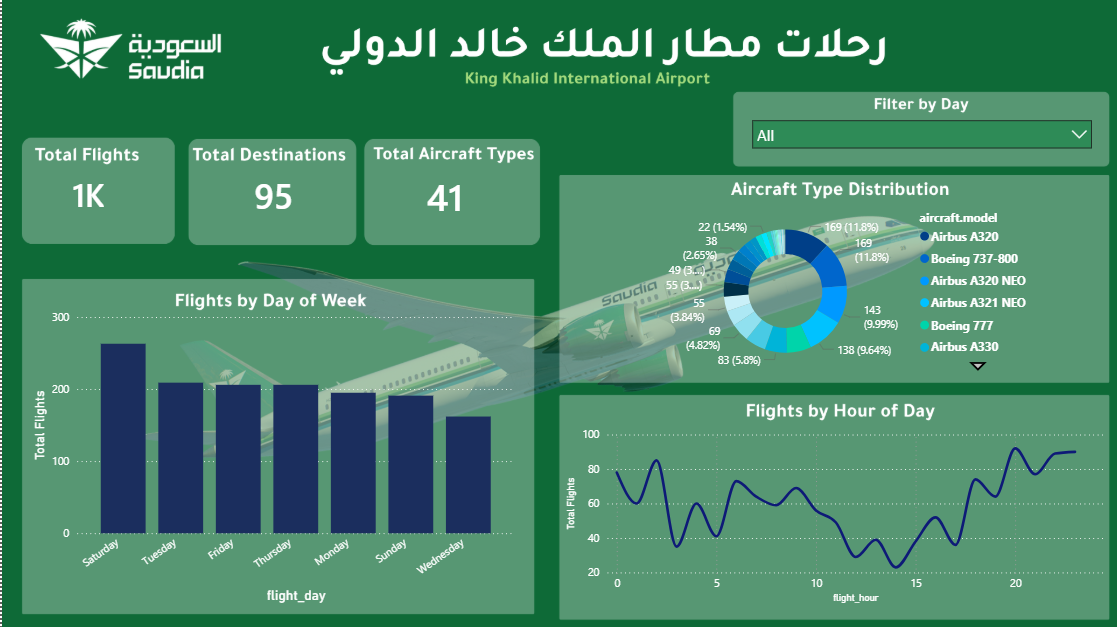

The page's visual inventory and layout, read from the dashboard file:
{"tool":"powerbi","page":{"name":"Page 1","canvas":[1280,720],"ordinal":0},"visuals":[{"type":"image","box":[0,0,1280,720],"z":0},{"type":"cardVisual","fields":{"Data":["flights_cleaned.Total Flights"]},"box":[30,164.3,137.1,112.9],"z":1000},{"type":"cardVisual","fields":{"Data":["flights_cleaned.Total Destinations"]},"box":[221.4,165.7,178.6,112.9],"z":2000},{"type":"cardVisual","fields":{"Data":["flights_cleaned.Total Aircraft Types"]},"box":[421.4,178.6,170,87.1],"z":3000},{"type":"lineStackedColumnComboChart","fields":{"Category":["flights_cleaned.flight_day"],"Y":["flights_cleaned.Total Flights"]},"box":[30,348.6,561.4,345.7],"z":4000},{"type":"donutChart","fields":{"Category":["flights_cleaned.aircraft.model"],"Y":["flights_cleaned.Total Flights"]},"box":[737.1,234.3,448.6,197.1],"z":5000},{"type":"lineChart","fields":{"Category":["flights_cleaned.flight_hour"],"Y":["flights_cleaned.Total Flights"]},"box":[640,482.9,624.3,211.4],"z":6000},{"type":"slicer","fields":{"Values":["flights_cleaned.flight_day"]},"box":[847.1,127.1,408.6,72.9],"z":7000}]}

Visuals, with their boxes in screenshot pixels (x1, y1, x2, y2), scaled from the page's 1280x720 canvas onto the 1117x627 screenshot:
image: pyautogui.locateOnScreen(0, 0, 1116, 626)
cardVisual - flights_cleaned.Total Flights: pyautogui.locateOnScreen(26, 143, 146, 241)
cardVisual - flights_cleaned.Total Destinations: pyautogui.locateOnScreen(193, 144, 349, 243)
cardVisual - flights_cleaned.Total Aircraft Types: pyautogui.locateOnScreen(368, 156, 516, 231)
lineStackedColumnComboChart - flights_cleaned.flight_day x flights_cleaned.Total Flights: pyautogui.locateOnScreen(26, 304, 516, 605)
donutChart - flights_cleaned.aircraft.model x flights_cleaned.Total Flights: pyautogui.locateOnScreen(643, 204, 1035, 376)
lineChart - flights_cleaned.flight_hour x flights_cleaned.Total Flights: pyautogui.locateOnScreen(558, 421, 1103, 605)
slicer - flights_cleaned.flight_day: pyautogui.locateOnScreen(739, 111, 1096, 174)
